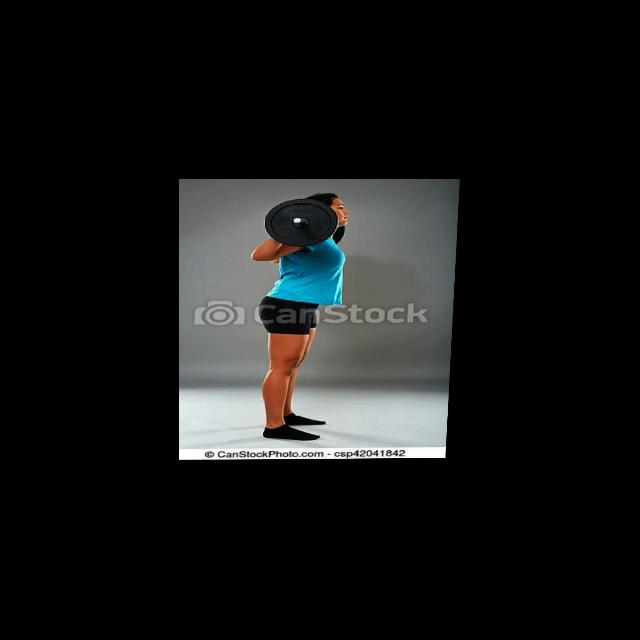barbell: (265, 197, 341, 248)
